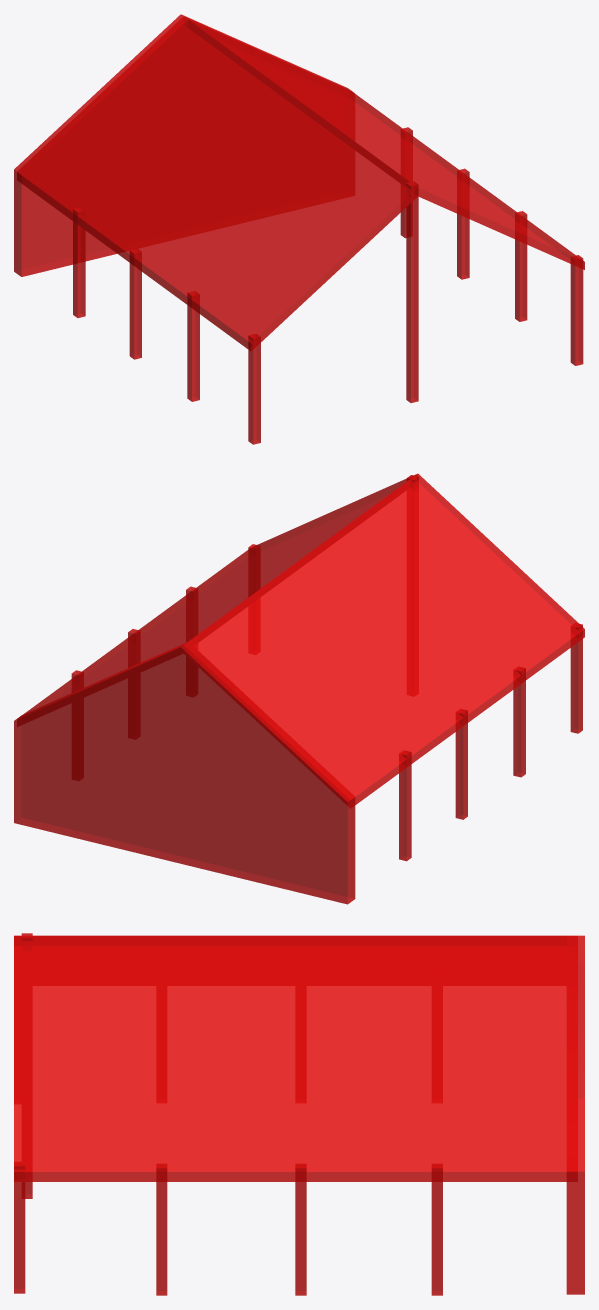
The model's file is SM_Bld_Tent_01_Collision.fbx.
3 renders of one model, top to bottom at view 1: azimuth 30°, elevation 25°; view 2: azimuth 150°, elevation 25°; view 3: azimuth 270°, elevation 25°, orthographic. The views are drawn at different scales.
Visible parts, largest first — view 1: SM_Bld_Tent_01_Collision; view 2: SM_Bld_Tent_01_Collision; view 3: SM_Bld_Tent_01_Collision.
Boxes of the visible parts, x1=… form: SM_Bld_Tent_01_Collision: x1=14, y1=14, x2=584, y2=444; SM_Bld_Tent_01_Collision: x1=14, y1=473, x2=584, y2=904; SM_Bld_Tent_01_Collision: x1=14, y1=933, x2=584, y2=1295.
Size of the model in its own units: 616 by 380 by 755.
